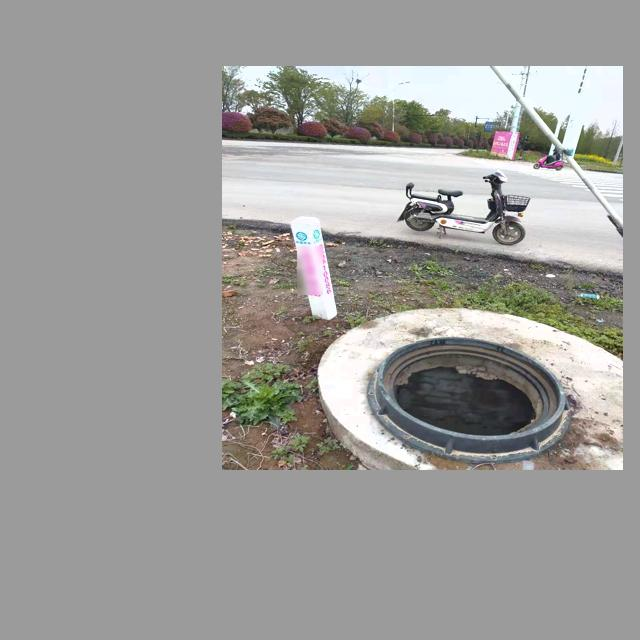lose: (365, 338, 573, 465)
